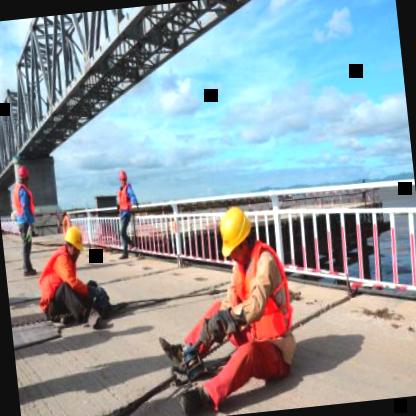helmet: (213, 195, 259, 270), (59, 223, 88, 266), (16, 160, 34, 188), (114, 165, 130, 192)
